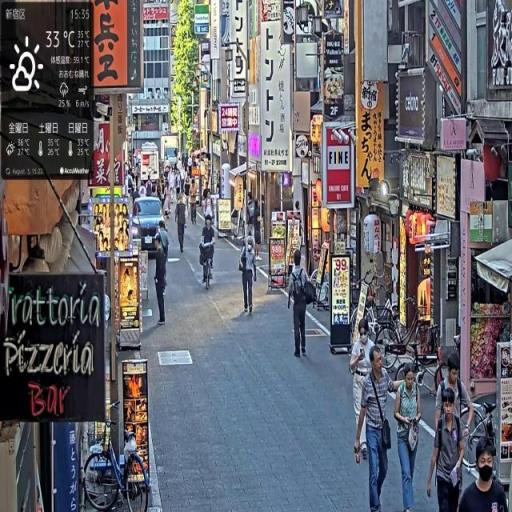person: (354, 342, 401, 512), (428, 387, 468, 512), (394, 364, 422, 512), (350, 317, 377, 452), (459, 441, 510, 512), (287, 252, 318, 359), (240, 232, 260, 316), (154, 234, 168, 327), (200, 214, 217, 288), (176, 194, 189, 259), (191, 180, 200, 226)
